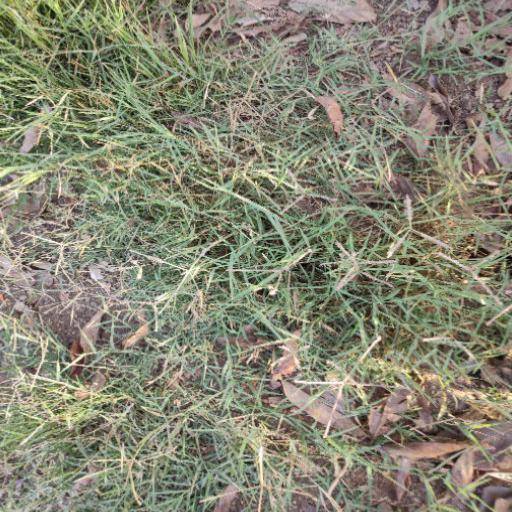weed: (24, 9, 483, 473)
